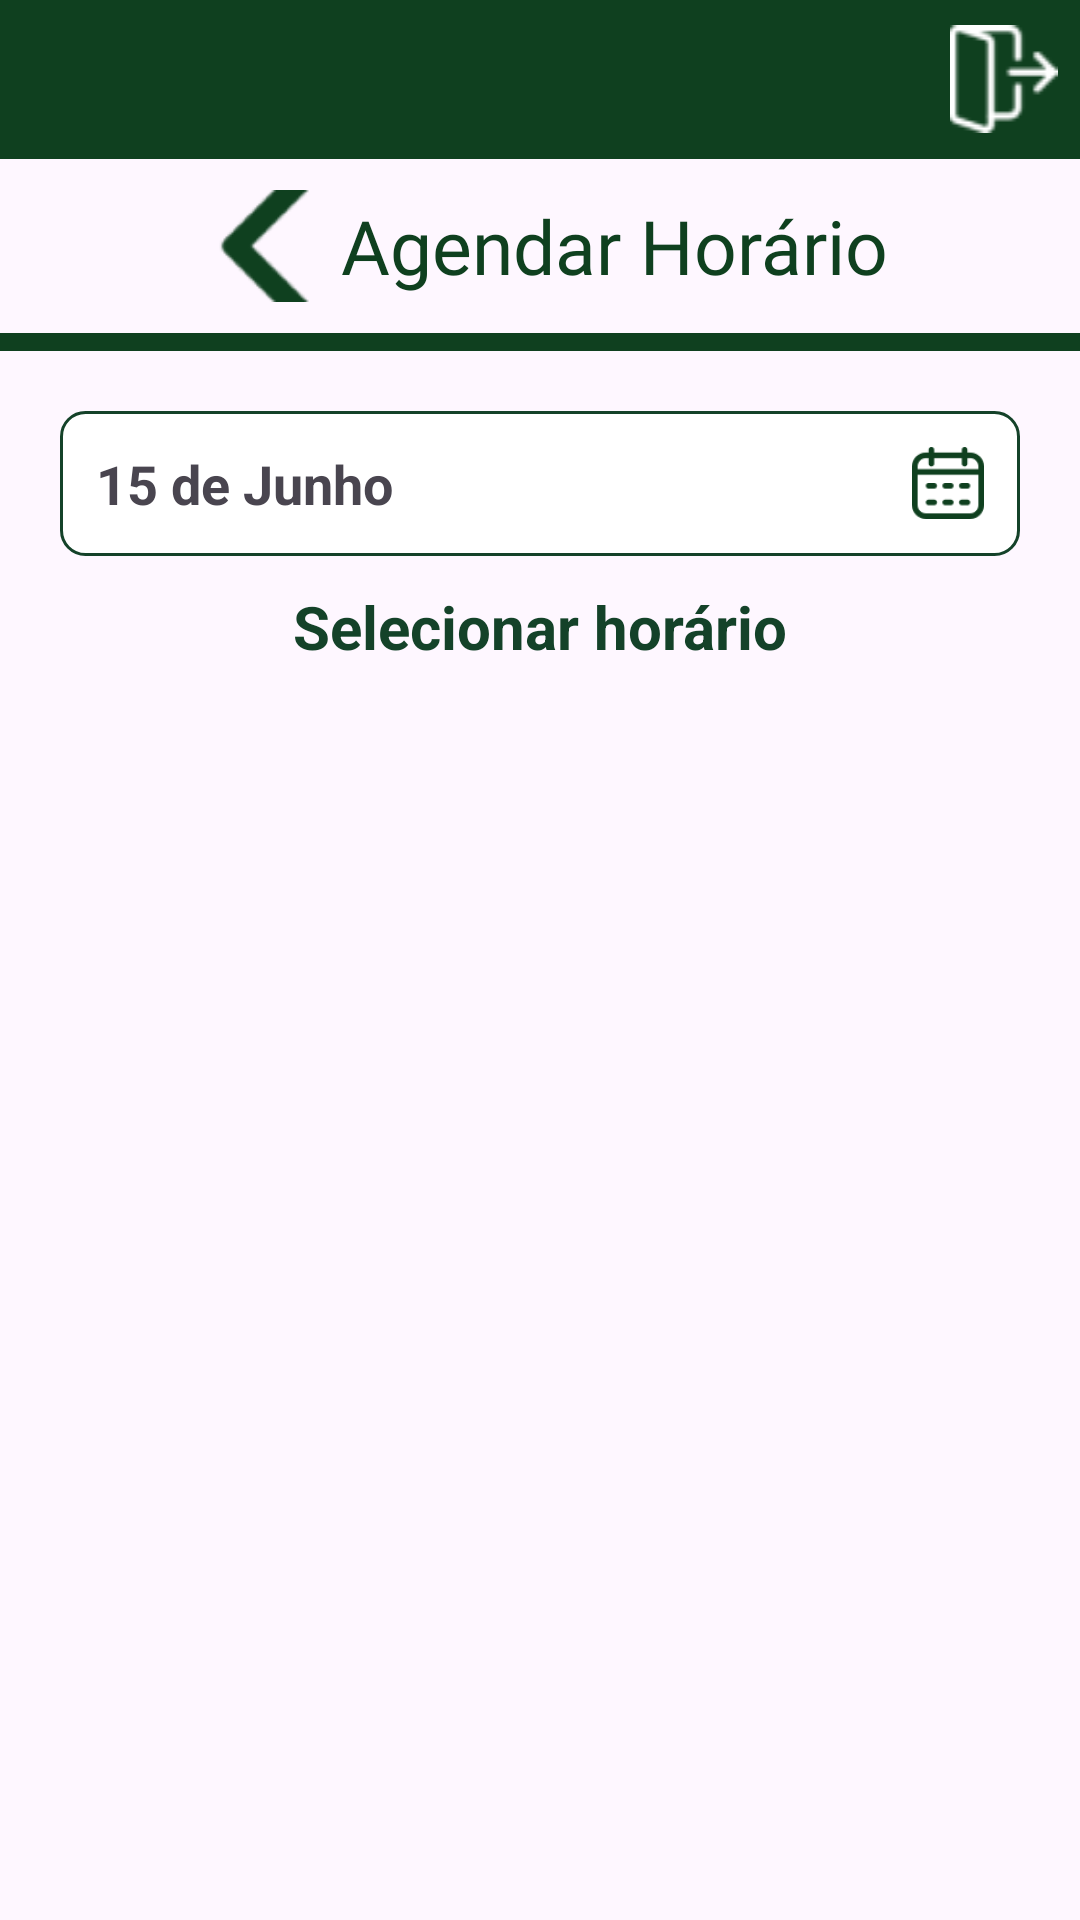

Screen size 1080×1920. Icon name, then its center in pixels as (x=x, y=y):
back page arrow: (x=265, y=246)
calendar: (x=948, y=483)
